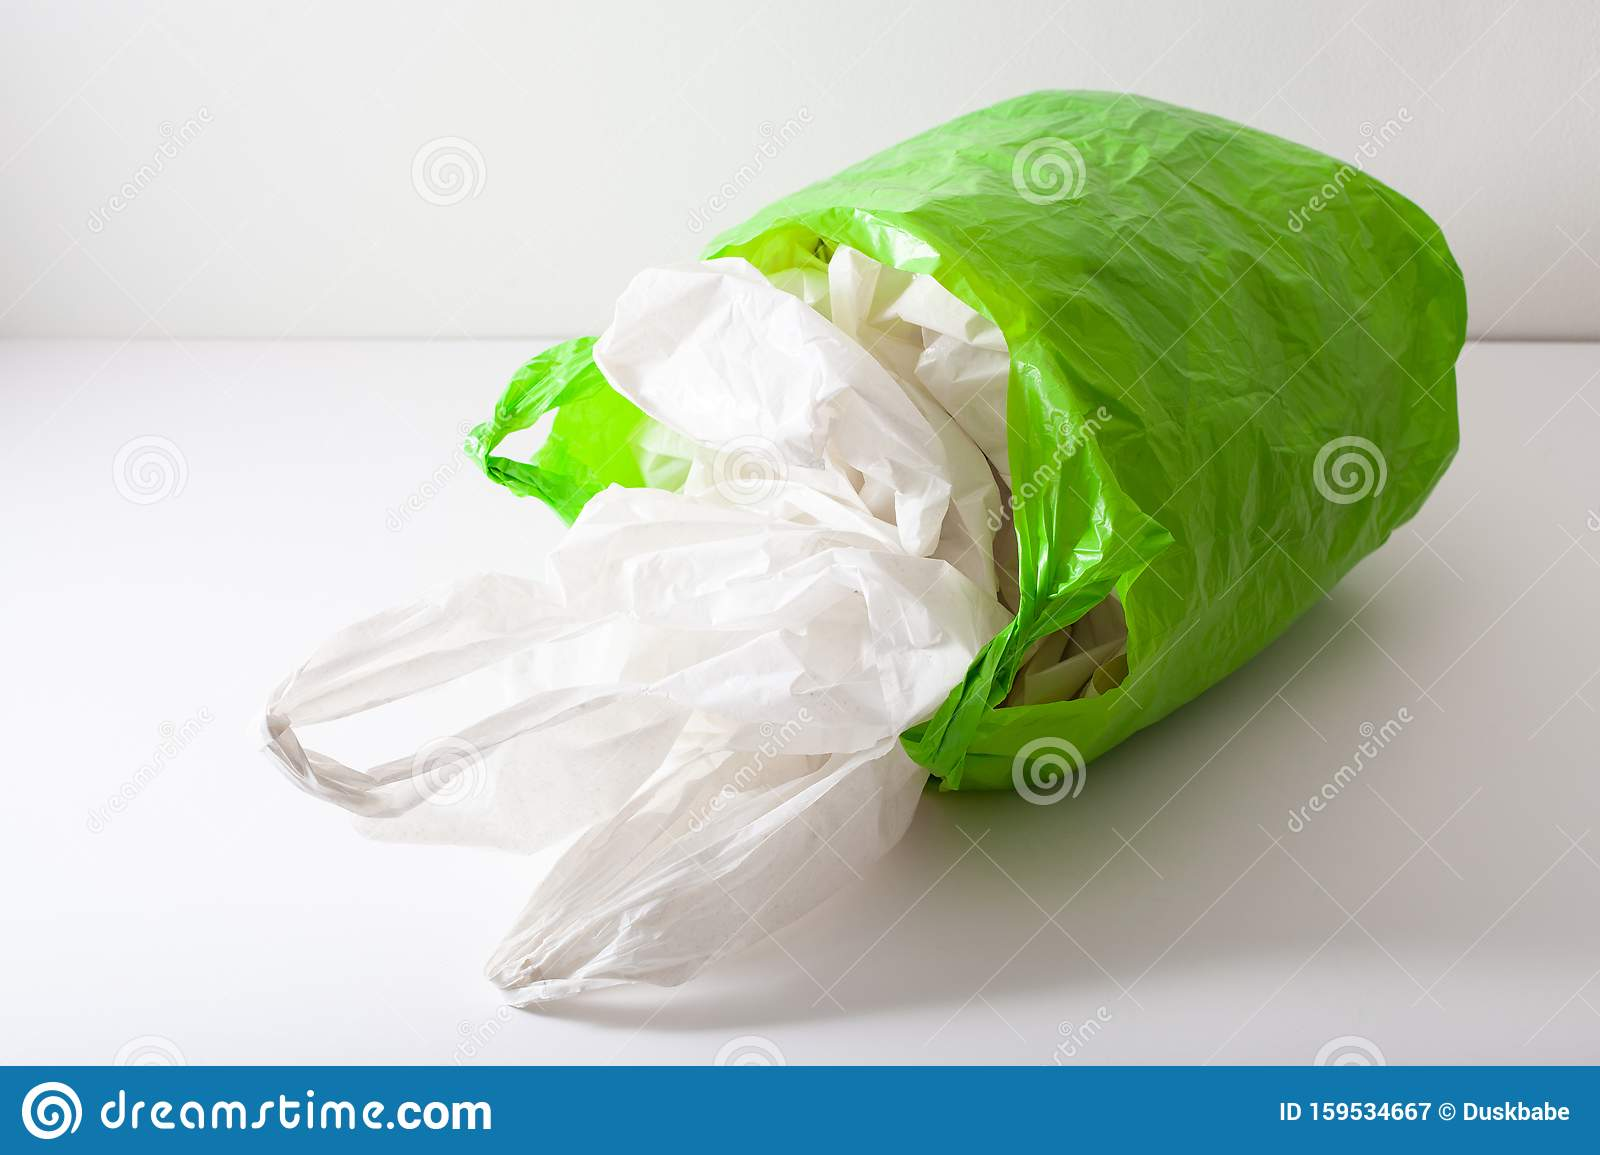plastic_bagwdw: (181, 61, 1591, 1043)
